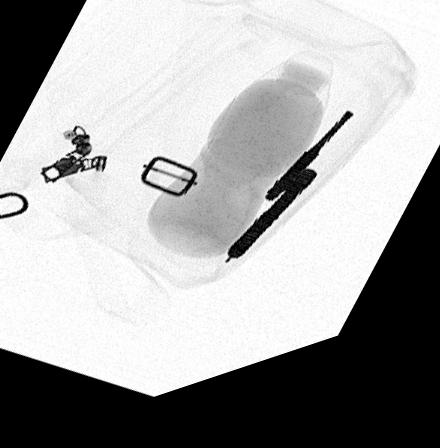Gun: (225, 187, 316, 274), (263, 131, 355, 217)
